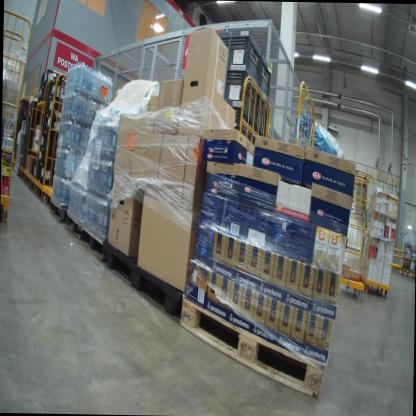pallet: (179, 292, 329, 404), (101, 240, 182, 319), (80, 224, 109, 259), (48, 195, 74, 225), (64, 210, 85, 236)
